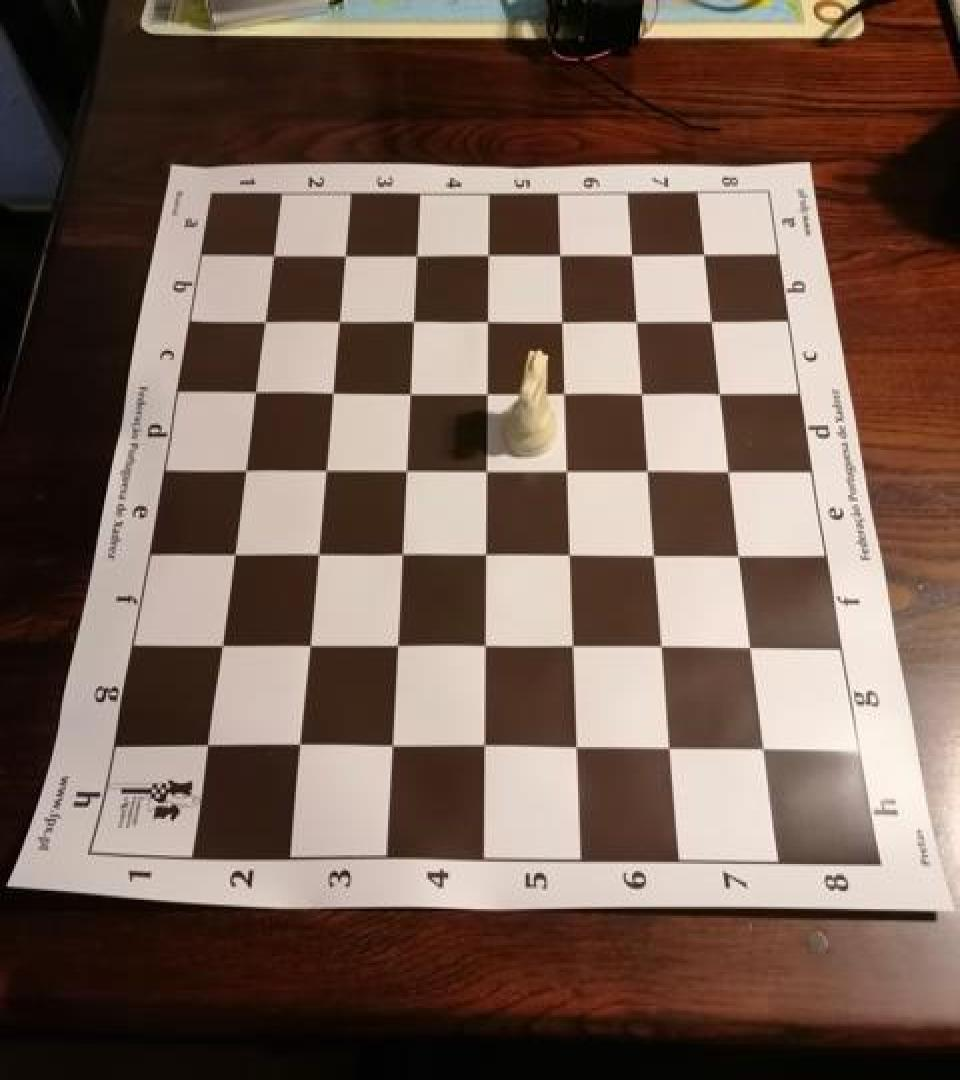xcorner: (726, 536, 758, 573), (640, 536, 672, 573), (554, 536, 586, 573), (691, 238, 723, 274), (618, 238, 650, 274), (545, 238, 577, 274), (472, 238, 504, 274), (400, 240, 432, 276), (328, 240, 360, 276), (257, 240, 289, 276), (699, 304, 731, 340), (623, 304, 655, 340), (547, 304, 579, 340), (472, 304, 504, 340), (397, 305, 429, 341), (322, 305, 354, 341), (247, 305, 279, 341), (707, 374, 739, 410), (628, 374, 660, 410), (549, 374, 581, 410), (471, 374, 503, 410), (393, 376, 425, 412), (315, 376, 347, 412), (237, 376, 269, 412), (716, 452, 748, 488), (634, 452, 666, 488), (551, 452, 583, 488), (470, 452, 502, 488), (388, 452, 420, 488), (307, 452, 339, 488), (226, 452, 258, 488), (468, 536, 500, 572), (383, 536, 415, 572), (299, 536, 331, 572), (214, 536, 246, 572), (737, 629, 769, 665), (647, 629, 679, 665), (557, 628, 589, 664), (467, 628, 499, 664), (378, 628, 410, 664), (289, 626, 321, 662), (201, 626, 233, 662), (750, 731, 782, 767), (654, 730, 686, 766), (560, 729, 592, 765), (466, 729, 498, 765), (372, 728, 404, 764), (279, 727, 311, 763), (187, 727, 219, 763)
